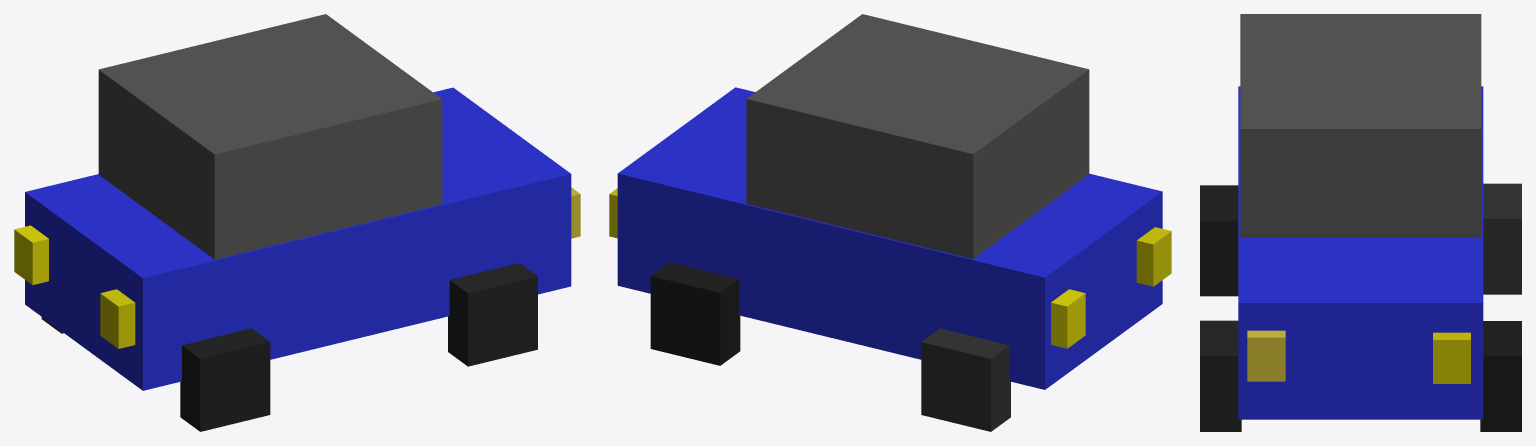
File: car2.glb
3 renders of one model, left to right at view 1: azimuth 30°, elevation 25°; view 2: azimuth 150°, elevation 25°; view 3: azimuth 270°, elevation 25°, orthographic. The views are drawn at different scales.
Parts seen in each view (by area): view 1: Cube, Куб, Куб.001, Куб.002, Куб.008, Куб.007; view 2: Cube, Куб, Куб.003, Куб.004, Куб.008, Куб.007; view 3: Куб, Cube, Куб.002, Куб.003, Куб.004, Куб.001, Куб.005, Куб.006.
Part boxes in pixels (bbox=[...]): Cube: bbox=[25, 87, 571, 390]; Куб: bbox=[98, 14, 442, 259]; Куб.001: bbox=[180, 328, 270, 431]; Куб.002: bbox=[448, 263, 537, 366]; Куб.008: bbox=[100, 289, 135, 348]; Куб.007: bbox=[14, 225, 48, 284]; Cube: bbox=[617, 87, 1162, 389]; Куб: bbox=[746, 14, 1089, 258]; Куб.003: bbox=[650, 262, 740, 365]; Куб.004: bbox=[921, 328, 1010, 431]; Куб.008: bbox=[1136, 227, 1171, 286]; Куб.007: bbox=[1051, 289, 1085, 348]; Куб: bbox=[1240, 14, 1481, 237]; Cube: bbox=[1238, 86, 1483, 419]; Куб.002: bbox=[1200, 320, 1241, 431]; Куб.003: bbox=[1480, 321, 1521, 431]; Куб.004: bbox=[1483, 183, 1521, 294]; Куб.001: bbox=[1200, 185, 1238, 296]; Куб.005: bbox=[1247, 330, 1285, 381]; Куб.006: bbox=[1433, 332, 1470, 383].
Bounding box in the file's own units: 8.54 × 4.53 × 5.
